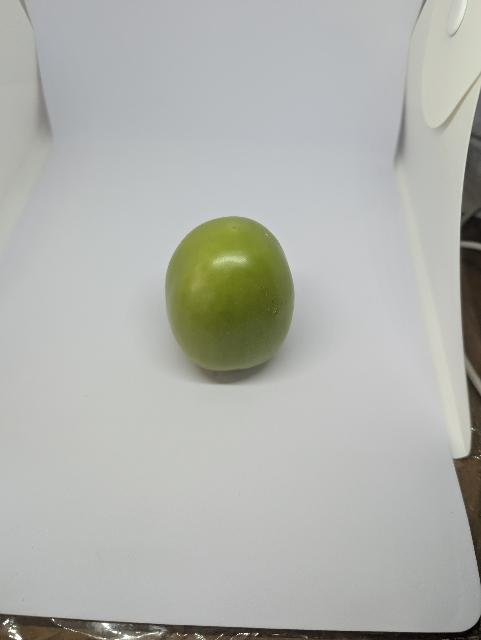green: (164, 215, 297, 374)
